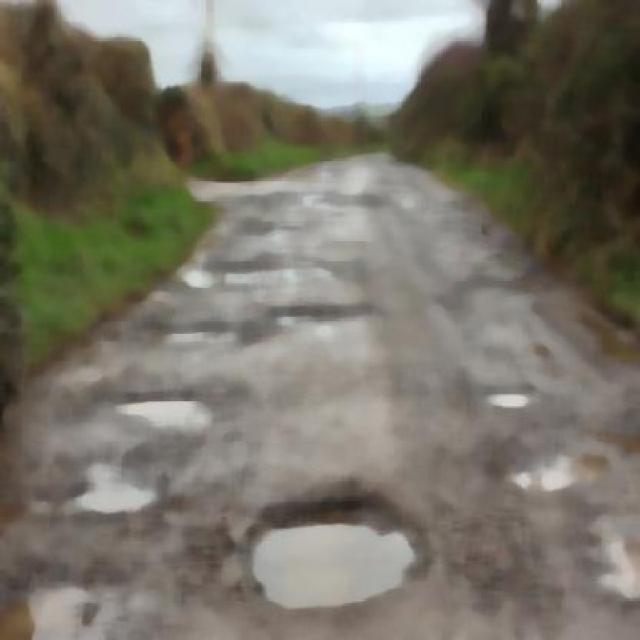Pothole: (252, 444, 400, 622), (62, 438, 150, 516), (126, 374, 192, 448)
